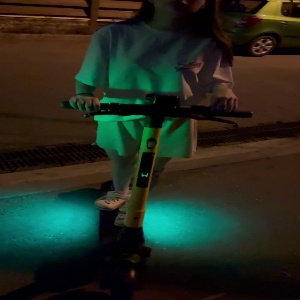human on a scooter: (57, 1, 253, 300)
